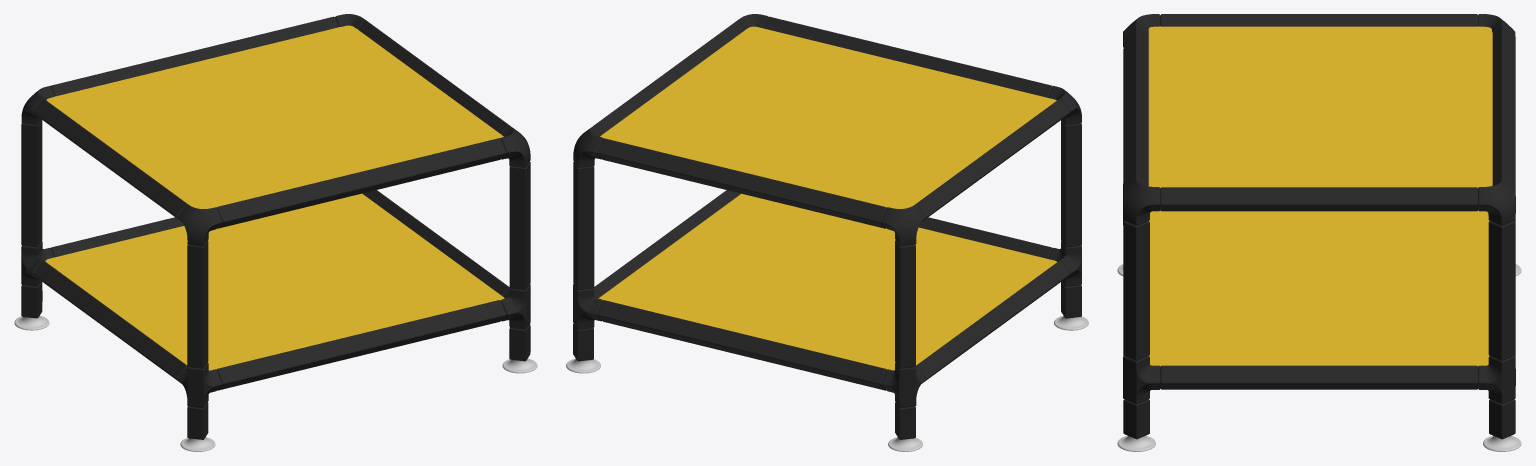
The picture shows the model from 3 angles, left to right: view 1: azimuth 30°, elevation 25°; view 2: azimuth 150°, elevation 25°; view 3: azimuth 270°, elevation 25°; orthographic projection. The views are drawn at different scales.
Visible parts, largest first — view 1: 374x329x154; view 2: 374x329x154; view 3: 374x329x154.
Boxes of the visible parts, left/top/right/bottom form: 374x329x154: left=14, top=14, right=537, bottom=451; 374x329x154: left=566, top=14, right=1088, bottom=451; 374x329x154: left=1117, top=14, right=1521, bottom=451.
Size of the model in its own units: 0.4639 by 0.2933 by 0.4182.
